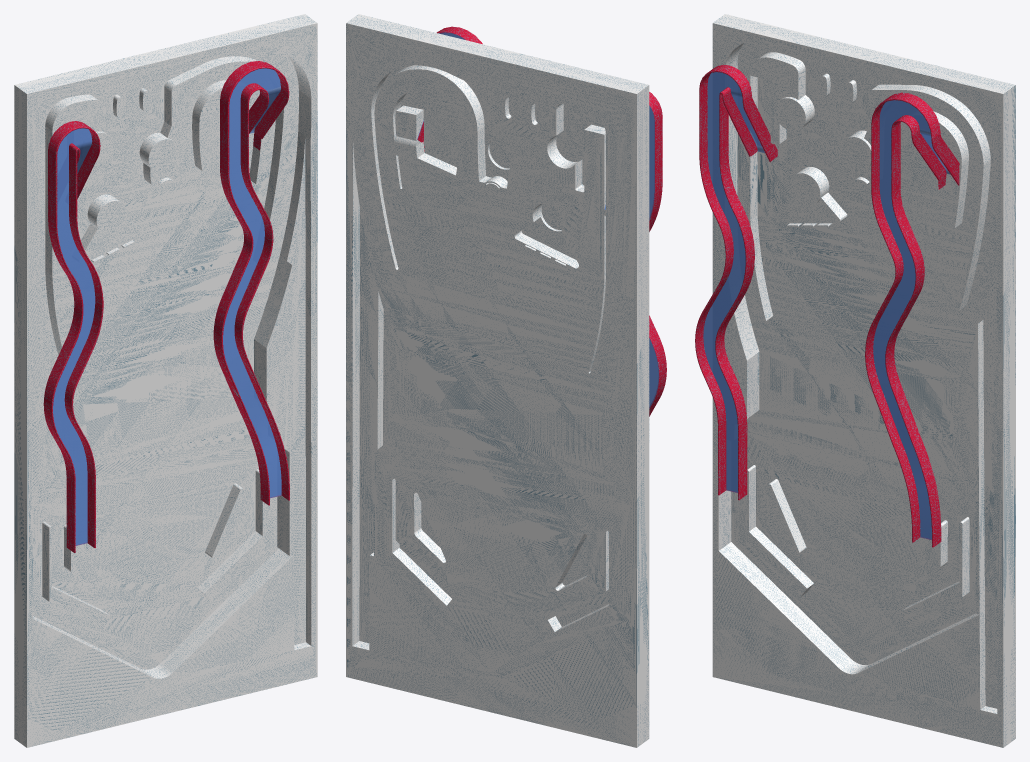
The model's file is supreme.dae.
3 views of the same model, side by side, from view 1: azimuth 30°, elevation 25°; view 2: azimuth 150°, elevation 25°; view 3: azimuth 330°, elevation 25° (orthographic).
Visible parts, largest first — view 1: SketchUp (×16); view 2: SketchUp (×14); view 3: SketchUp (×17).
Boxes of the visible parts, x1,y1,x2,y2 form: SketchUp (×16): (14, 14, 317, 747); SketchUp (×14): (346, 14, 666, 747); SketchUp (×17): (695, 14, 1015, 747).
Size of the model in its own units: 1850 by 384 by 3976.
